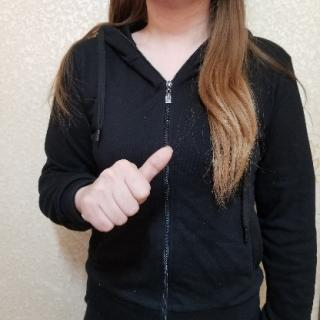ALIF: (74, 142, 174, 236)
